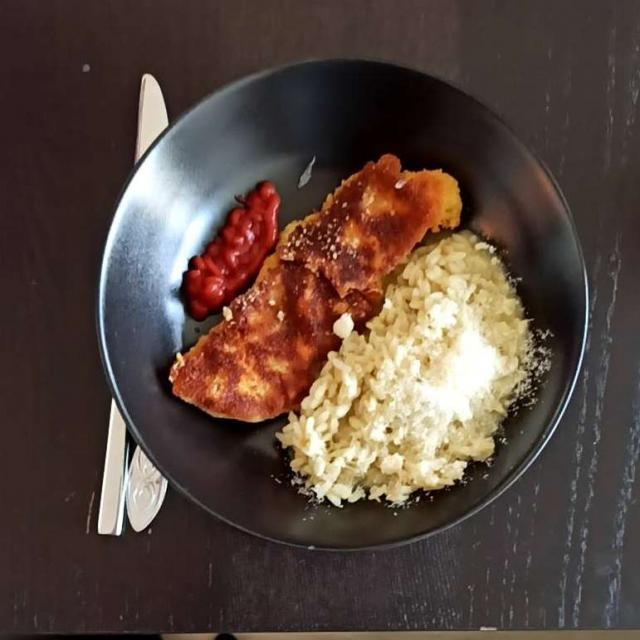risotto: (284, 228, 521, 492)
